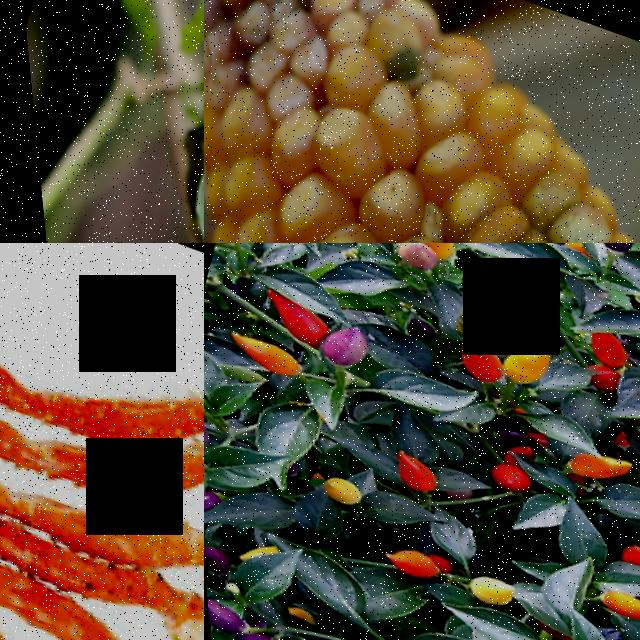chilli: (246, 284, 330, 349), (439, 323, 510, 390), (554, 435, 631, 495), (375, 446, 452, 506), (495, 330, 557, 392)
corn: (204, 0, 537, 243)
crab: (0, 243, 204, 549), (0, 345, 204, 640)
